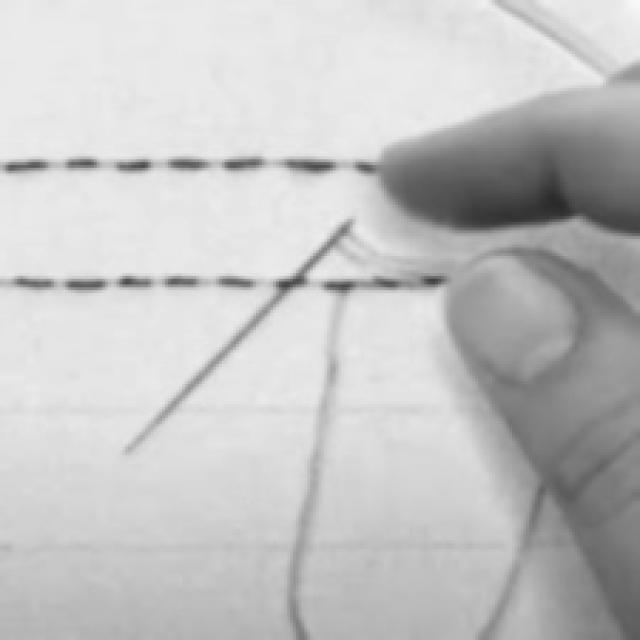stitch: (285, 159, 335, 172), (0, 159, 49, 172), (222, 156, 265, 170), (275, 272, 308, 289), (12, 276, 55, 288), (168, 158, 209, 169), (65, 279, 106, 290), (118, 275, 152, 288), (116, 159, 151, 171), (322, 280, 356, 292), (218, 276, 255, 287), (164, 275, 199, 286), (65, 158, 99, 169), (371, 276, 398, 288), (354, 160, 378, 173), (422, 276, 448, 286)
